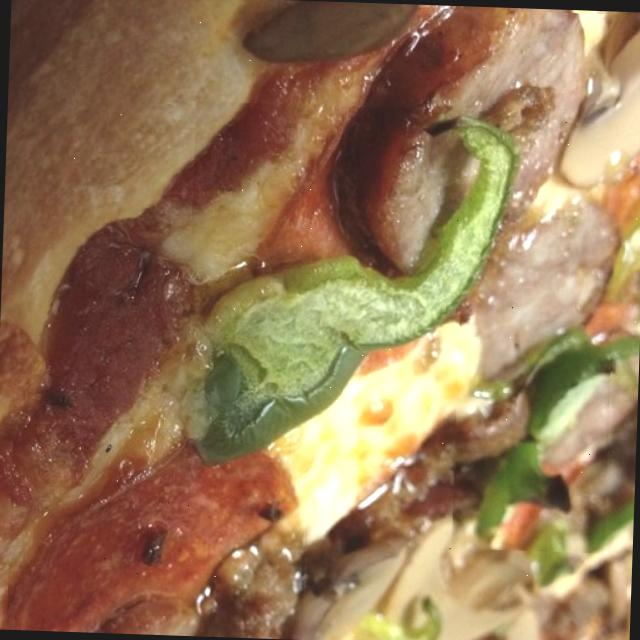Bell Pepper: (183, 101, 517, 472), (451, 317, 611, 552)
pepperoni: (6, 422, 308, 640)
